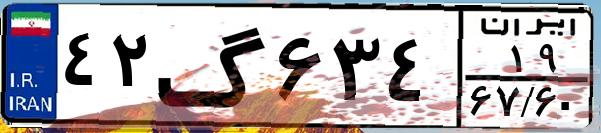0: (560, 70, 590, 125)
1: (508, 27, 537, 80)
2: (110, 28, 156, 98)
3: (330, 28, 385, 110)
4: (385, 28, 445, 110), (57, 26, 110, 100)
6: (270, 28, 330, 110), (470, 70, 495, 125), (535, 70, 560, 125)
7: (495, 70, 520, 125)
9: (537, 27, 568, 80)
گ: (156, 12, 270, 120)
